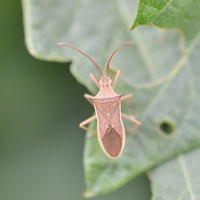insect: (57, 42, 140, 157)
